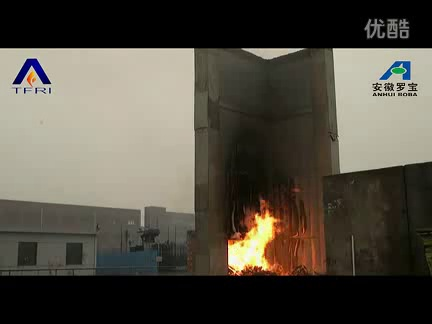fire: (225, 201, 288, 274)
